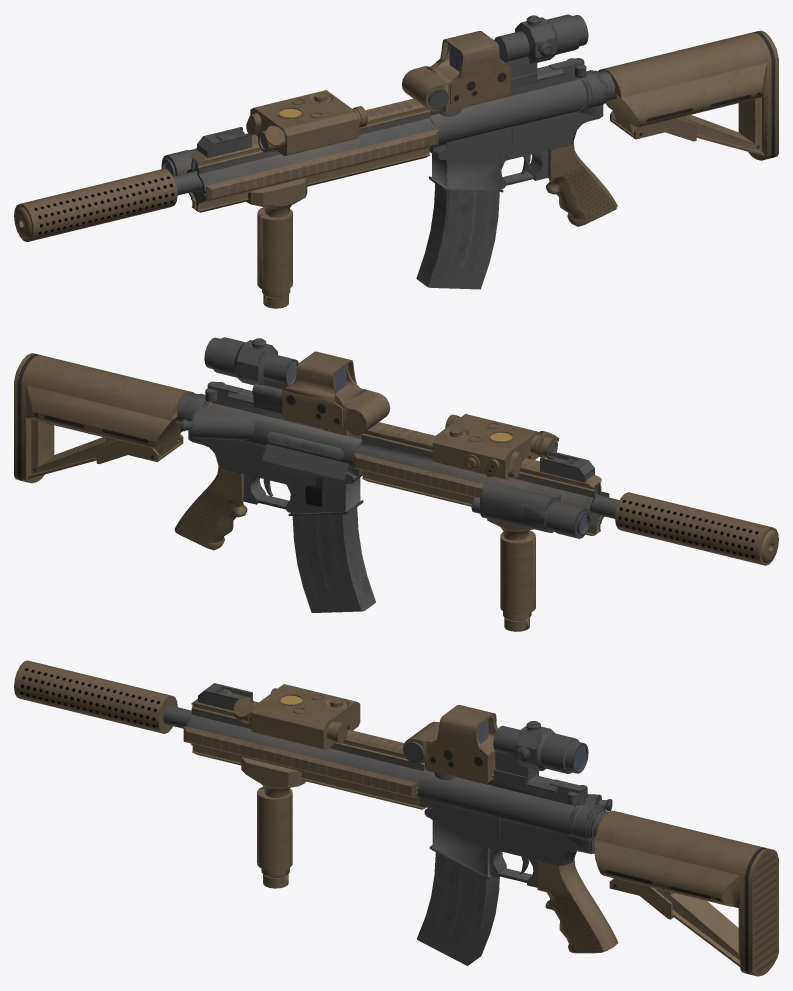
3 renders of one model, top to bottom at view 1: azimuth 30°, elevation 25°; view 2: azimuth 150°, elevation 25°; view 3: azimuth 330°, elevation 25°, orthographic.
Parts seen in each view (by area): view 1: Mk18_CQBR_Block_2_0; view 2: Mk18_CQBR_Block_2_0; view 3: Mk18_CQBR_Block_2_0.
Boxes of the visible parts, box(x1,y1,x2,y2) form: Mk18_CQBR_Block_2_0: box(14, 14, 778, 308); Mk18_CQBR_Block_2_0: box(14, 337, 778, 631); Mk18_CQBR_Block_2_0: box(14, 660, 778, 976).
Bounding box in the file's own units: 0.00935 × 0.00304 × 0.00108.
Materials: 1 (1 with a texture image).
